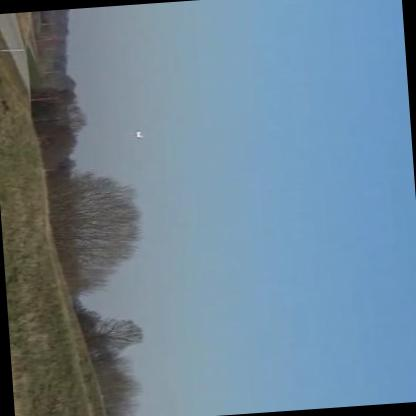plane: (132, 125, 148, 142)
